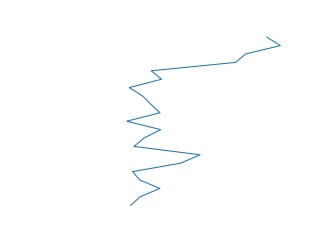crevasseRiverChannelBar: (122, 33, 286, 207)
